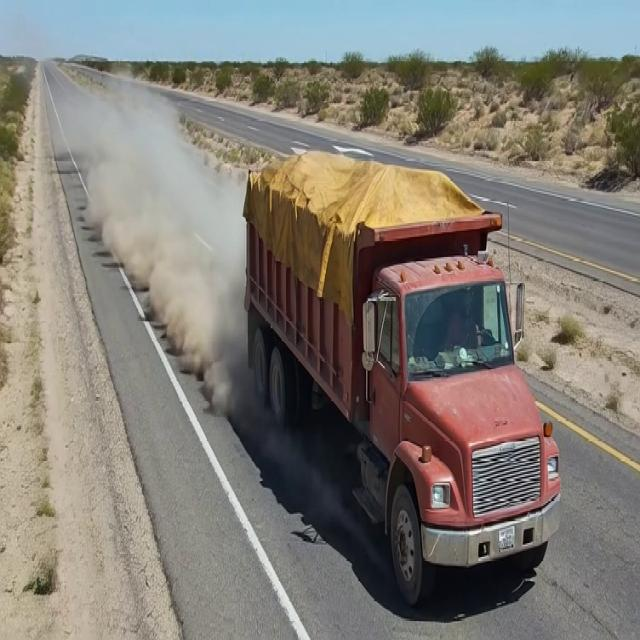Box: (242, 140, 505, 242)
Truck: (239, 127, 564, 603)
